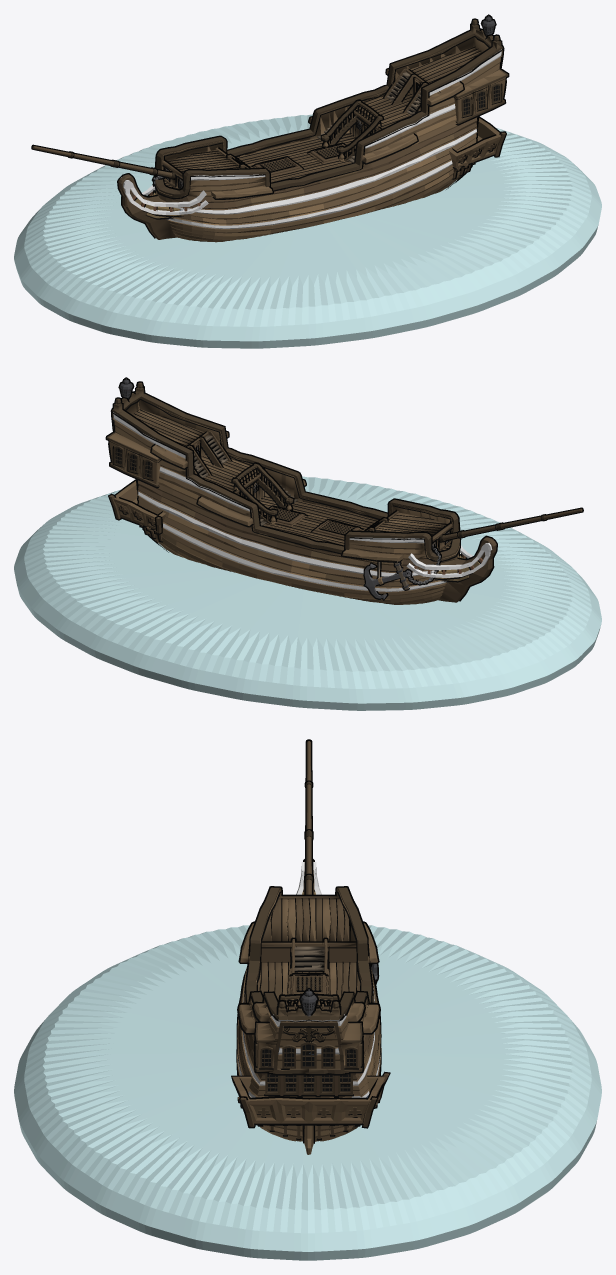
The picture shows the model from 3 angles, top to bottom: view 1: azimuth 30°, elevation 25°; view 2: azimuth 150°, elevation 25°; view 3: azimuth 270°, elevation 25°; orthographic projection. The views are drawn at different scales.
Parts seen in each view (by area): view 1: TRANSPARENT_WATER, ROOT_MESH, COLOR_BAND; view 2: TRANSPARENT_WATER, ROOT_MESH, COLOR_BAND; view 3: TRANSPARENT_WATER, ROOT_MESH, COLOR_BAND.
Part boxes in pixels (<box>): TRANSPARENT_WATER: <box>14,114,601,348</box>; ROOT_MESH: <box>31,14,509,242</box>; COLOR_BAND: <box>121,49,501,228</box>; TRANSPARENT_WATER: <box>14,476,601,710</box>; ROOT_MESH: <box>105,377,583,604</box>; COLOR_BAND: <box>113,412,492,591</box>; TRANSPARENT_WATER: <box>14,925,601,1260</box>; ROOT_MESH: <box>231,739,390,1154</box>; COLOR_BAND: <box>238,862,380,1097</box>.
Size of the model in its own units: 1.85 by 0.612 by 1.41.
Materials: 5 (1 with a texture image).
